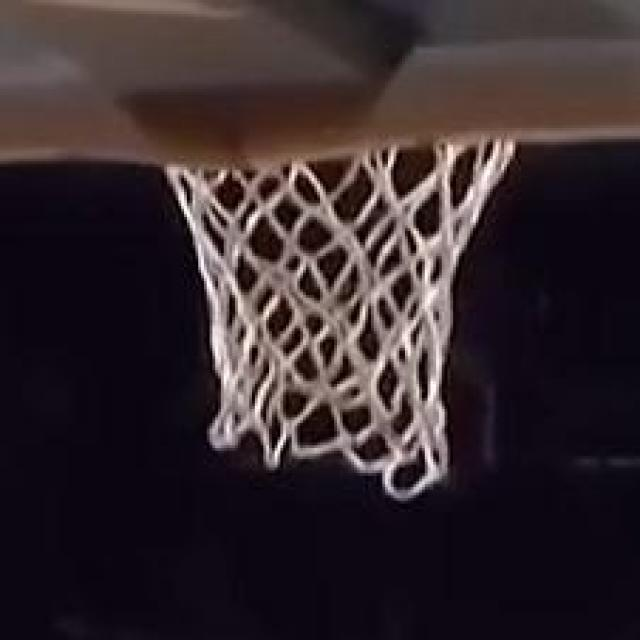hoop: (140, 101, 535, 553)
